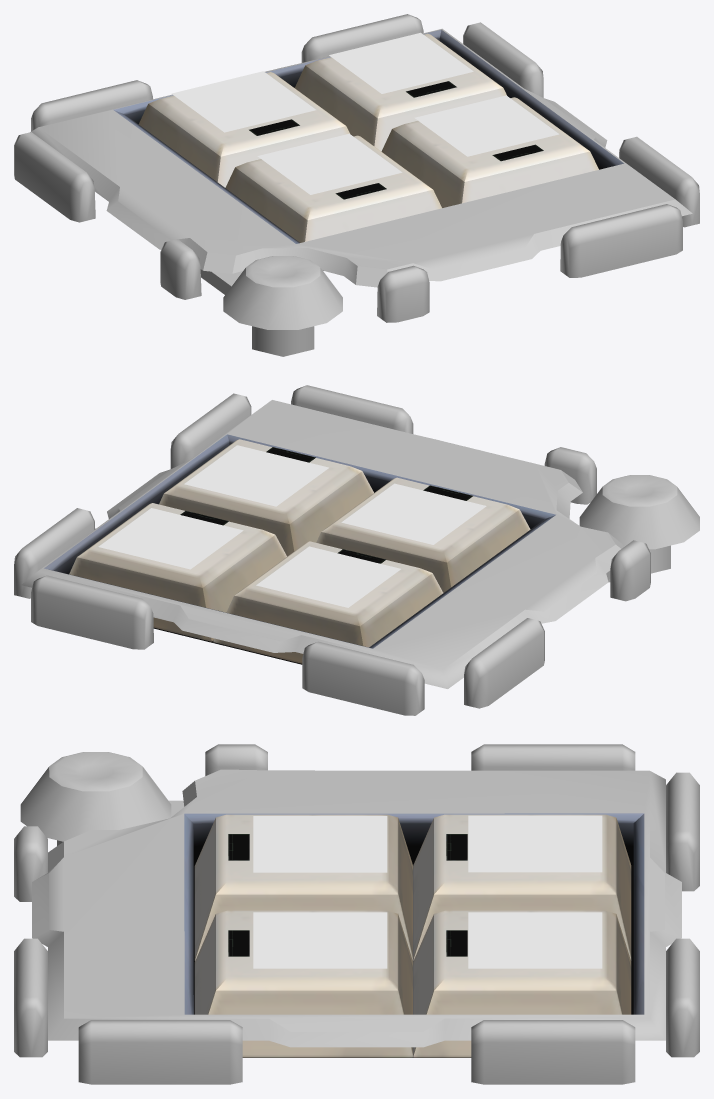
Rendered from KeypadComponent.fbx.
3 views of the same model, one above another, from view 1: azimuth 30°, elevation 25°; view 2: azimuth 150°, elevation 25°; view 3: azimuth 270°, elevation 25° (orthographic). The views are drawn at different scales.
Visible parts, largest first — view 1: PuzzleBackground, key (×4), SymbolImage (×4), RecessedInner; view 2: PuzzleBackground, key (×4), SymbolImage (×4), RecessedInner; view 3: PuzzleBackground, key (×4), SymbolImage (×4), RecessedInner, LED_Off (×4).
Boxes of the visible parts, left/top/right/bottom form: PuzzleBackground: left=14, top=14, right=699, bottom=356; key (×4): left=138, top=33, right=598, bottom=242; SymbolImage (×4): left=171, top=32, right=558, bottom=194; RecessedInner: left=113, top=29, right=623, bottom=243; PuzzleBackground: left=14, top=385, right=699, bottom=715; key (×4): left=69, top=439, right=530, bottom=663; SymbolImage (×4): left=98, top=445, right=486, bottom=607; RecessedInner: left=44, top=434, right=555, bottom=664; PuzzleBackground: left=14, top=744, right=699, bottom=1084; key (×4): left=194, top=814, right=631, bottom=1057; SymbolImage (×4): left=253, top=815, right=602, bottom=968; RecessedInner: left=184, top=813, right=644, bottom=1057; LED_Off (×4): left=228, top=834, right=467, bottom=956.
Bounding box in the file's own units: 0.2 × 0.0319 × 0.2.
